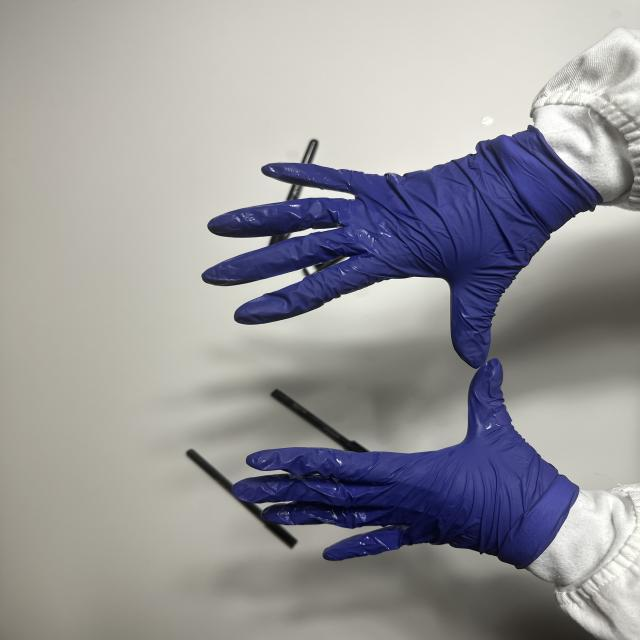gloves_contaminated: (203, 126, 600, 366), (233, 358, 578, 568)
